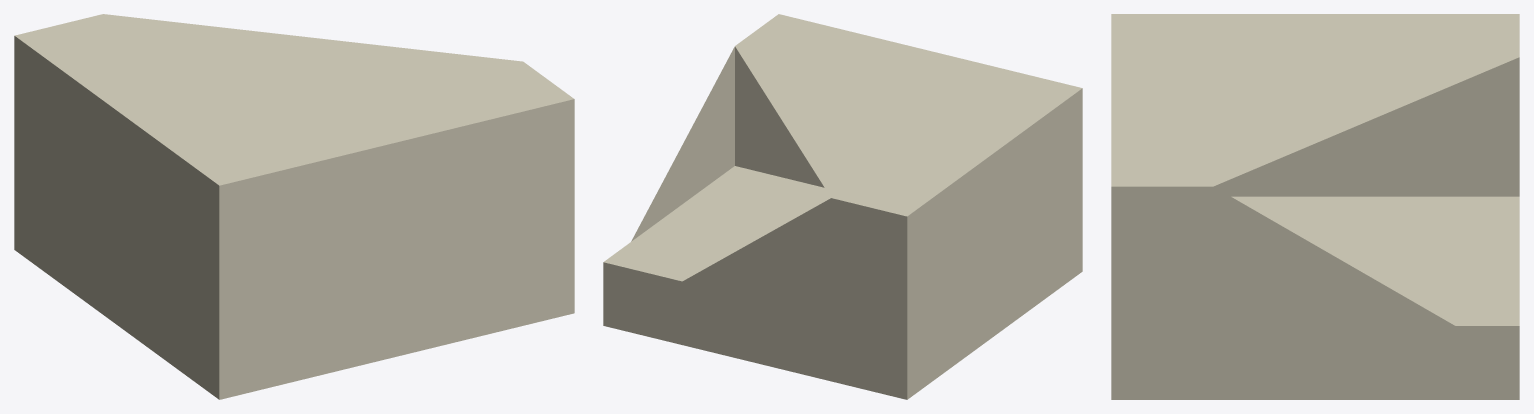
The model's file is roadtile_091.glb.
3 renders of one model, left to right at view 1: azimuth 30°, elevation 25°; view 2: azimuth 150°, elevation 25°; view 3: azimuth 270°, elevation 25°, orthographic. The views are drawn at different scales.
Parts seen in each view (by area): view 1: Mesh1 Group1 Model; view 2: Mesh1 Group1 Model; view 3: Mesh1 Group1 Model.
Boxes of the visible parts, bbox=[...] form: Mesh1 Group1 Model: bbox=[14, 14, 574, 399]; Mesh1 Group1 Model: bbox=[603, 14, 1082, 399]; Mesh1 Group1 Model: bbox=[1111, 14, 1519, 399].
Size of the model in its own units: 3 by 1.73 by 3.
